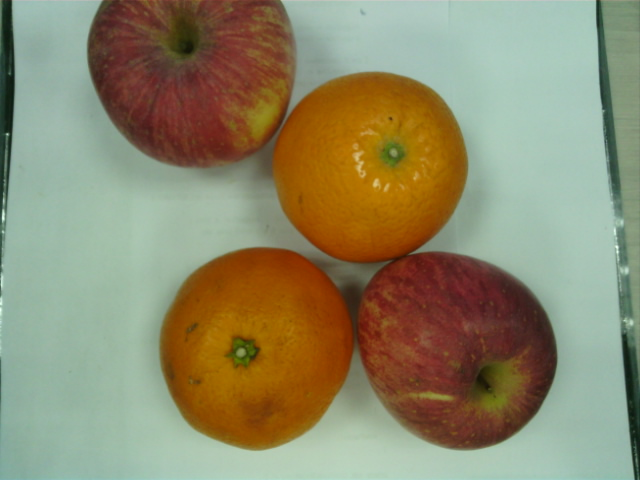normal_apple: (358, 252, 557, 450), (87, 1, 297, 169)
normal_orange: (161, 247, 352, 451), (273, 72, 468, 263)
